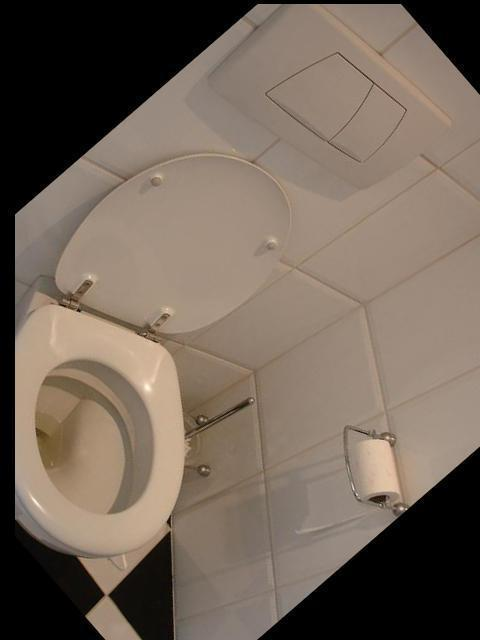Sanitario: (0, 105, 401, 602)
